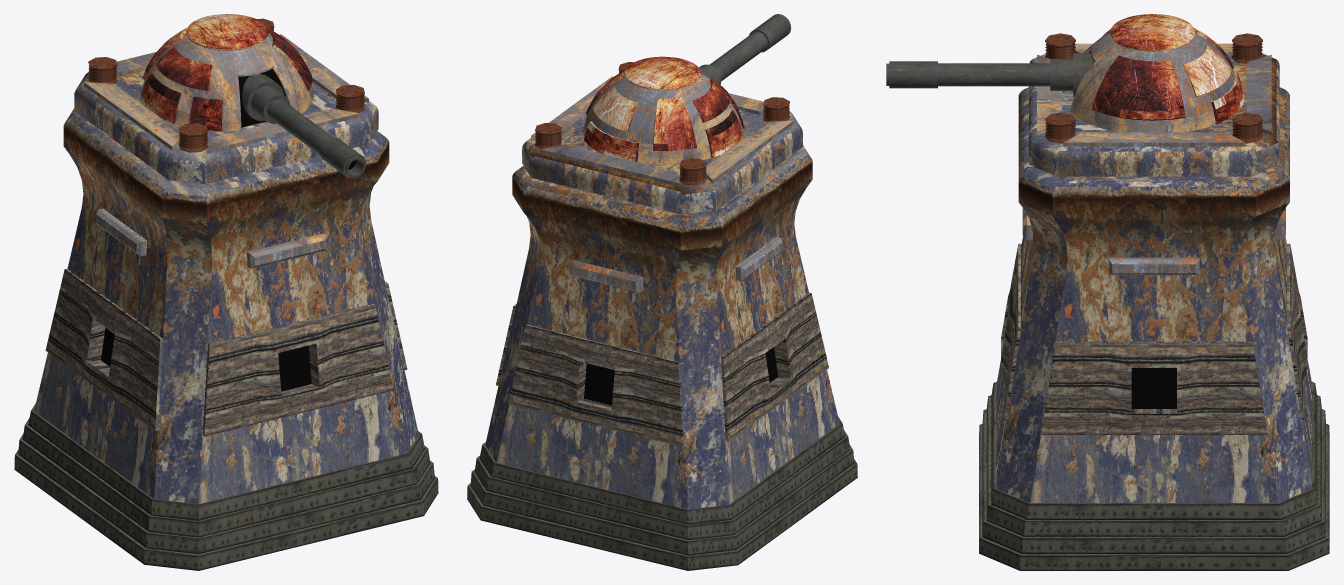
The model's file is Turret.FBX.
The picture shows the model from 3 angles, left to right: view 1: azimuth 30°, elevation 25°; view 2: azimuth 150°, elevation 25°; view 3: azimuth 270°, elevation 25°; orthographic projection. The views are drawn at different scales.
Visible parts, largest first — view 1: Box002, turret_base, Box003, Sphere001, Cylinder001, Hose004, Hose003, Hose001; view 2: Box002, turret_base, Box003, Sphere001, Cylinder001, Hose001, Hose002, Hose004; view 3: Box002, turret_base, Sphere001, Box003, Cylinder001, Hose003, Hose002, Hose001, Hose004.
Part boxes in pixels (<box>): Box002: <box>34,108,418,503</box>; turret_base: <box>14,403,438,570</box>; Box003: <box>74,34,378,183</box>; Sphere001: <box>140,14,314,131</box>; Cylinder001: <box>242,73,366,178</box>; Hose004: <box>179,123,207,152</box>; Hose003: <box>336,85,364,112</box>; Hose001: <box>88,57,117,83</box>; Box002: <box>485,145,839,509</box>; turret_base: <box>467,416,857,570</box>; Box003: <box>522,76,802,214</box>; Sphere001: <box>583,56,744,164</box>; Cylinder001: <box>698,14,791,84</box>; Hose001: <box>679,158,706,185</box>; Hose002: <box>535,123,561,148</box>; Hose004: <box>763,97,789,121</box>; Box002: <box>996,87,1311,502</box>; turret_base: <box>979,381,1329,570</box>; Sphere001: <box>1070,14,1244,132</box>; Box003: <box>1029,43,1279,176</box>; Cylinder001: <box>886,53,1093,96</box>; Hose003: <box>1045,112,1075,143</box>; Hose002: <box>1232,112,1262,143</box>; Hose001: <box>1232,33,1262,63</box>; Hose004: <box>1045,33,1075,58</box>.
Size of the model in its own units: 490 by 728 by 619.
